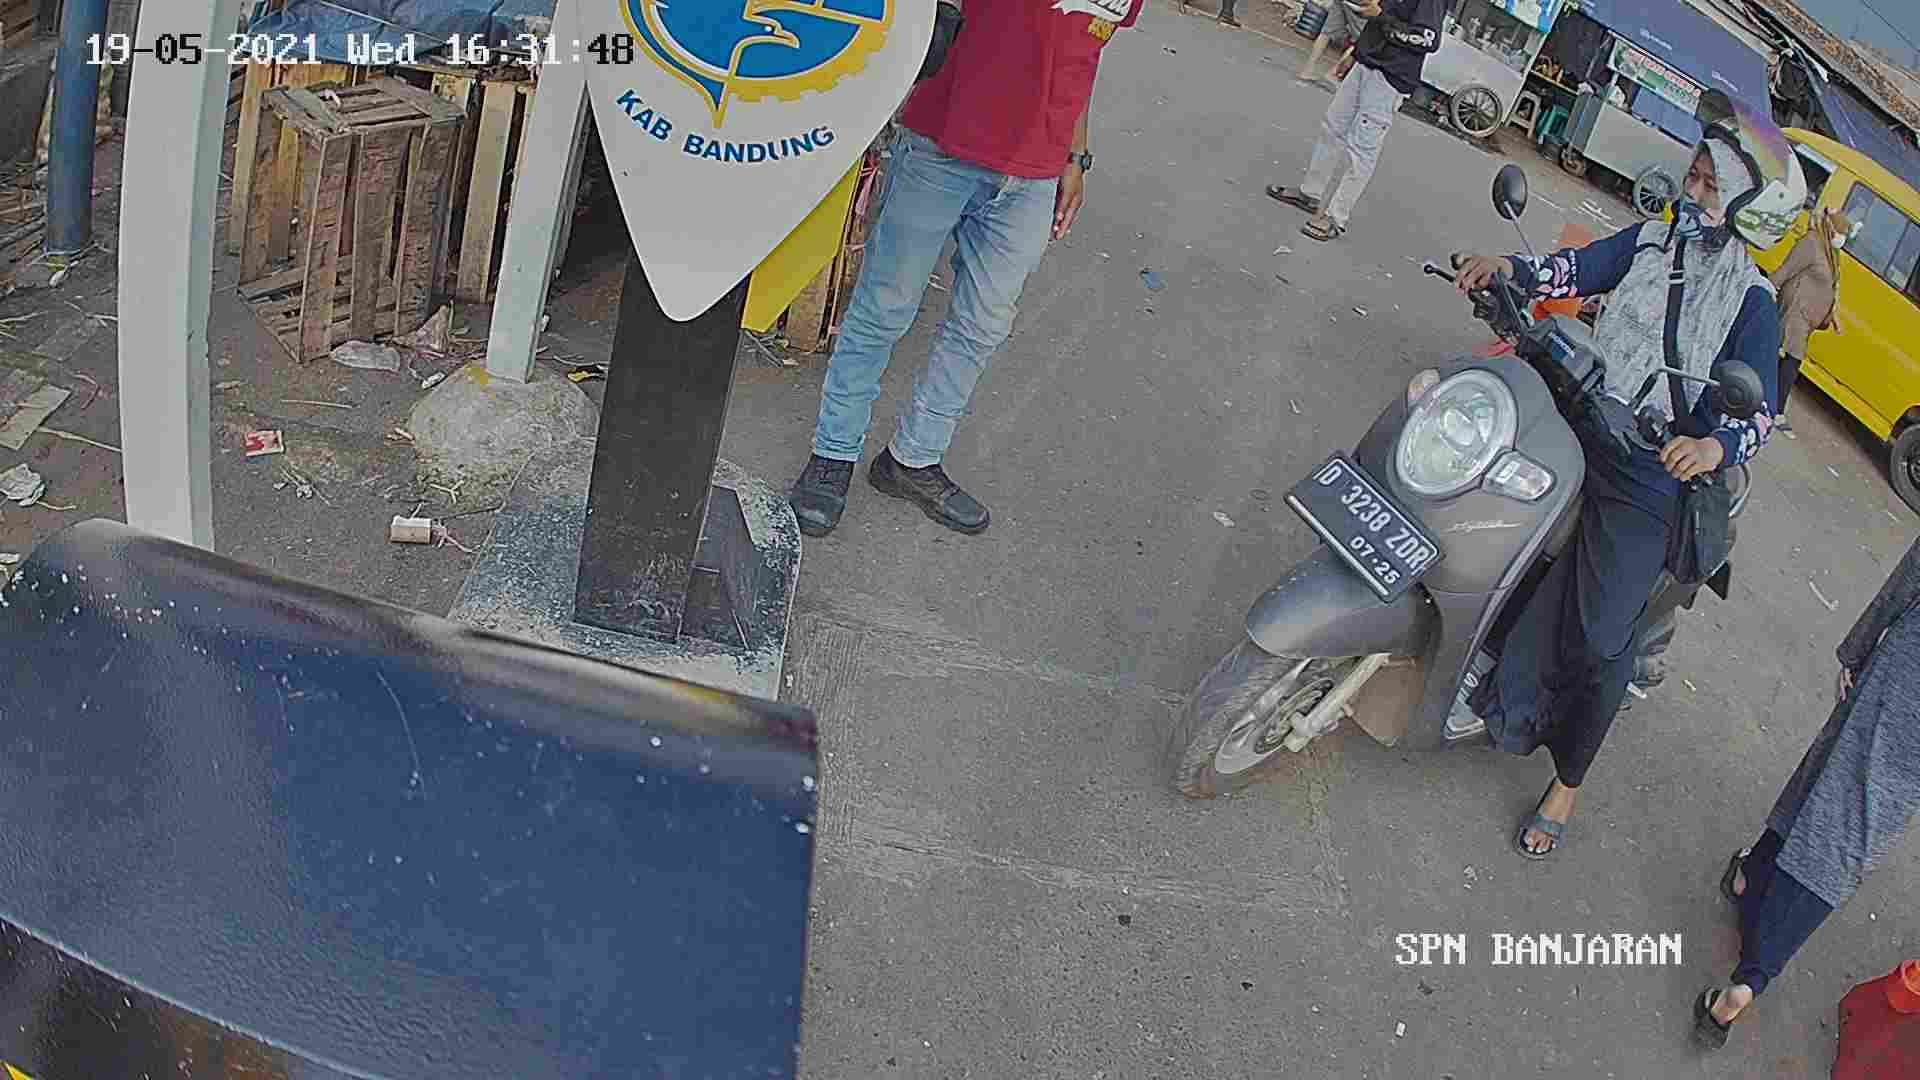motor: (1168, 305, 1756, 804)
